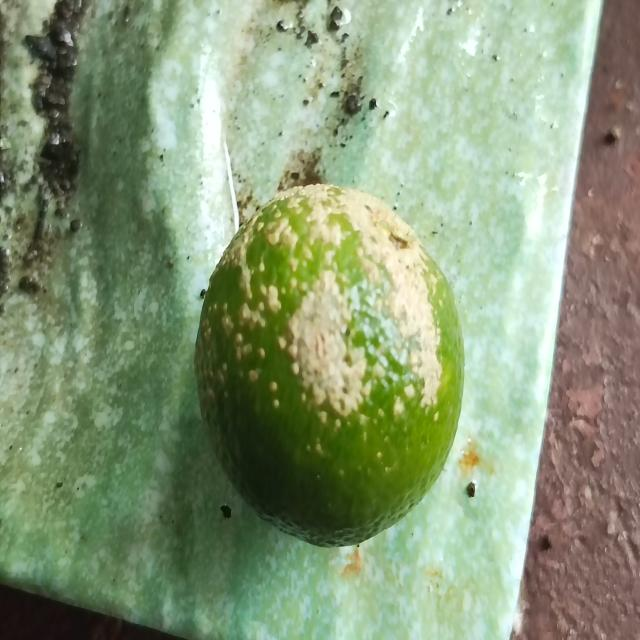scab: (188, 179, 467, 559)
